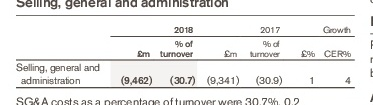table: (0, 0, 373, 105)
